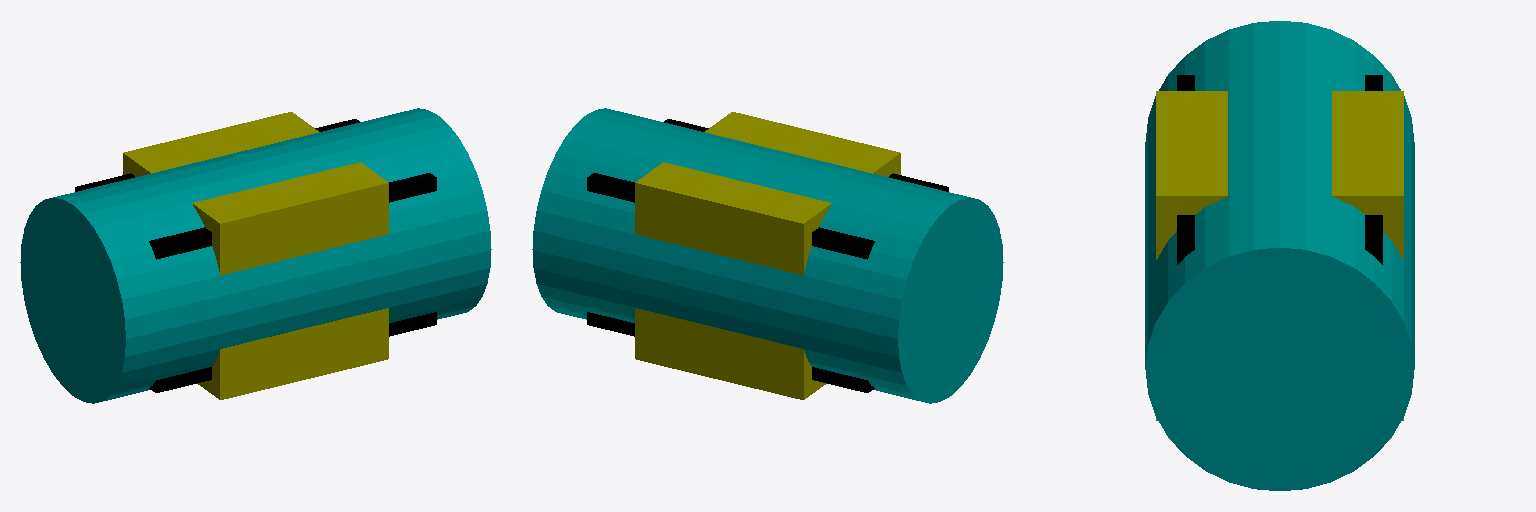
robot.urdf — multi_object_2:
<?xml version="1.0"?>
<robot name="multi_object_2">

  <material name="Black">
    <color rgba="0.0 0.0 0.0 1.0"/>
  </material>
  <material name="Blue">
    <color rgba="0.0 0.0 0.8 1.0"/>
  </material>
  <material name="Green">
    <color rgba="0.5 1.0 0.3 1.0"/>
  </material>
  <material name="Cyan">
    <color rgba="0.0 0.6 0.6 1.0"/>
  </material>
  <material name="Grey">
    <color rgba="0.4 0.4 0.4 1.0"/>
  </material>
  <material name="Yellow">
    <color rgba="0.6 0.6 0.0 1.0"/>
  </material>
  <material name="Glas">
    <color rgba="0.4 0.4 0.4 0.1"/>
  </material>
  <material name="Orange">
    <color rgba="1.0 0.423529411765 0.0392156862745 1.0"/>
  </material>
  <material name="Brown">
    <color rgba="0.870588235294 0.811764705882 0.764705882353 1.0"/>
  </material>
  <material name="Red">
    <color rgba="0.8 0.0 0.0 1.0"/>
  </material>
  <material name="Purple">
    <color rgba="0.8 0.0 0.8 1.0"/>
  </material>
  <material name="White">
    <color rgba="1.0 1.0 1.0 1.0"/>
  </material>
  <material name="Silver">
    <color rgba="0.82 0.82 0.82 1.0"/>
  </material>


  <link name="base">
    <visual>
      <origin xyz="0 0 0" rpy="0 0 0" />
      <geometry>
        <box size="0.01 0.01 0.01" />
      </geometry>
    </visual>
  </link>

  <joint name="base_to_object_0" type="floating">
    <parent link="base"/>
    <child link="object_0"/>
    <origin rpy="0 0 0" xyz="0 0 0"/>
  </joint>

  <link name="object_0">
    <visual>
      <origin xyz="0 0 0" rpy="0 1.57 0" />
      <geometry>
        <cylinder length="0.130" radius="0.0325" />
      </geometry>
      <material name="Cyan"/>
    </visual>
    <collision>
      <geometry>
        <cylinder length="0.130" radius="0.0325" />
      </geometry>
    </collision>
  </link>

  <joint name="base_to_object_1" type="floating">
    <parent link="base"/>
    <child link="object_1"/>
    <origin rpy="0 0 0" xyz="0 0 0"/>
  </joint>

  <link name="object_1">
    <visual>
      <origin xyz="0 0 0" rpy="0 0 0" />
      <geometry>
        <box size="0.1 0.05 0.05" />
      </geometry>
      <material name="Black"/>
    </visual>
  </link>

  <joint name="base_to_object_2" type="floating">
    <parent link="base"/>
    <child link="object_2"/>
    <origin rpy="0 0 0" xyz="0 0 0"/>
  </joint>

  <link name="object_2">
    <visual>
      <origin xyz="0 0 0" rpy="0 0 0" />git
      <geometry>
        <box size="0.06 0.06 0.06" />
      </geometry>
      <material name="Yellow"/>
    </visual>
  </link>

  <joint name="base_to_object_3" type="floating">
    <parent link="base"/>
    <child link="object_3"/>
    <origin rpy="0 0 0" xyz="0 0 0"/>
  </joint>

  <link name="object_3">
   <visual>
      <origin xyz="0 0 0" rpy="0 0 0" />
      <geometry>
        <sphere radius="0.0325"/>
      </geometry>
      <material name="Orange"/>
    </visual>
    <collision>
      <geometry>
        <sphere radius="0.0325"/>
      </geometry>
    </collision>
  </link>


  <joint name="base_to_object_4" type="floating">
    <parent link="base"/>
    <child link="object_4"/>
    <origin rpy="0 0 0" xyz="0 0 0"/>
  </joint>

  <link name="object_4">
    <visual>
      <origin xyz="0 0 0" rpy="0 1.57 0" />
      <geometry>
        <cylinder length="0.130" radius="0.0325" />
      </geometry>
      <material name="Purple"/>
    </visual>
    <collision>
      <geometry>
        <cylinder length="0.130" radius="0.0325" />
      </geometry>
    </collision>
  </link>


  <joint name="base_to_object_5" type="floating">
    <parent link="base"/>
    <child link="object_5"/>
    <origin rpy="0 0 0" xyz="0 0 0"/>
  </joint>

  <link name="object_5">
    <visual>
      <origin xyz="0 0 0" rpy="0 1.57 0" />
      <geometry>
        <cylinder length="0.130" radius="0.0325" />
      </geometry>
      <material name="Silver"/>
    </visual>
    <collision>
      <geometry>
        <cylinder length="0.130" radius="0.0325" />
      </geometry>
    </collision>
  </link>


  <joint name="base_to_object_6" type="floating">
    <parent link="base"/>
    <child link="object_6"/>
    <origin rpy="0 0 0" xyz="0 0 0"/>
  </joint>

  <link name="object_6">
    <visual>
      <origin xyz="0 0 0" rpy="0 0 0" />
      <geometry>
        <box size="0.1 0.05 0.05" />
      </geometry>
      <material name="Grey"/>
    </visual>
    <collision>
      <geometry>
        <box size="0.099 0.034 0.179" />
      </geometry>
    </collision>
  </link>



</robot>

--- Facts derived from the render (not from the file) ---
The picture shows the robot from 3 angles, left to right: view 1: azimuth 30°, elevation 25°; view 2: azimuth 150°, elevation 25°; view 3: azimuth 270°, elevation 25°; orthographic projection.
Robot: multi_object_2 — 8 links, 7 joints (7 floating); root link base; default pose: every joint at zero.
Links seen in each view (by area): view 1: object_0, object_2, object_1; view 2: object_0, object_2, object_1; view 3: object_0, object_2, object_1.
Boxes of the visible links, x1,y1,x2,y2 form: object_0: [20, 108, 491, 403]; object_2: [123, 112, 388, 399]; object_1: [75, 119, 436, 392]; object_0: [532, 108, 1003, 403]; object_2: [635, 112, 900, 399]; object_1: [587, 119, 948, 392]; object_0: [1145, 21, 1414, 490]; object_2: [1156, 91, 1403, 420]; object_1: [1177, 75, 1382, 264].
Bounding box of the posed robot: 0.1301 × 0.065 × 0.0651 m (x, y, z).
Geometry: primitives only (box / cylinder / sphere), no mesh files.